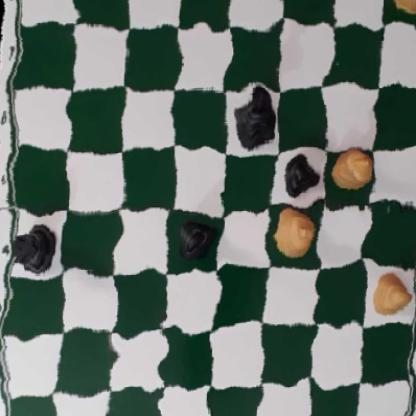black-king: (230, 91, 281, 150)
black-pawn: (175, 216, 216, 267), (282, 155, 324, 197)
black-rook: (9, 215, 59, 273)
white-bishop: (332, 149, 371, 194)
white-king: (275, 202, 318, 261)
white-pawn: (370, 268, 416, 317)
white-rook: (391, 0, 416, 16)
